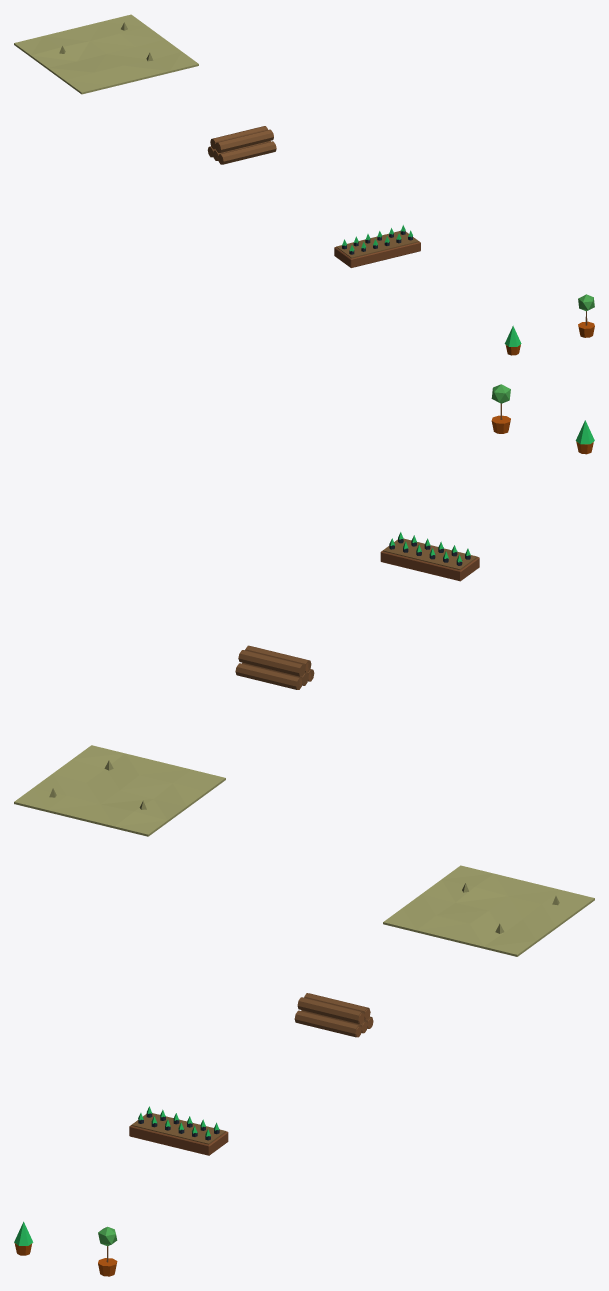
The model's file is kit_persemaian_v001.glb.
The picture shows the model from 3 angles, top to bottom: view 1: azimuth 30°, elevation 25°; view 2: azimuth 150°, elevation 25°; view 3: azimuth 330°, elevation 25°; orthographic projection. The views are drawn at different scales.
Visible parts, largest first — view 1: lantai_persemaian, Bedengan, Tumpukan_Kayu, Bibit_Pot_B; view 2: lantai_persemaian, Bedengan, Tumpukan_Kayu, Bibit_Pot_B; view 3: lantai_persemaian, Bedengan, Tumpukan_Kayu, Bibit_Pot_B.
Part boxes in pixels (left/top/right/bottom): lantai_persemaian: left=14, top=14, right=198, bottom=94; Bedengan: left=334, top=225, right=420, bottom=267; Tumpukan_Kayu: left=207, top=126, right=276, bottom=164; Bibit_Pot_B: left=578, top=294, right=594, bottom=337; lantai_persemaian: left=14, top=745, right=225, bottom=836; Bedengan: left=380, top=532, right=479, bottom=581; Tumpukan_Kayu: left=235, top=645, right=314, bottom=689; Bibit_Pot_B: left=491, top=384, right=510, bottom=433; lantai_persemaian: left=383, top=865, right=594, bottom=956; Bedengan: left=129, top=1106, right=228, bottom=1155; Tumpukan_Kayu: left=294, top=993, right=373, bottom=1037; Bibit_Pot_B: left=98, top=1226, right=117, bottom=1276.
Size of the model in its own units: 4.76 by 1.33 by 26.26.
